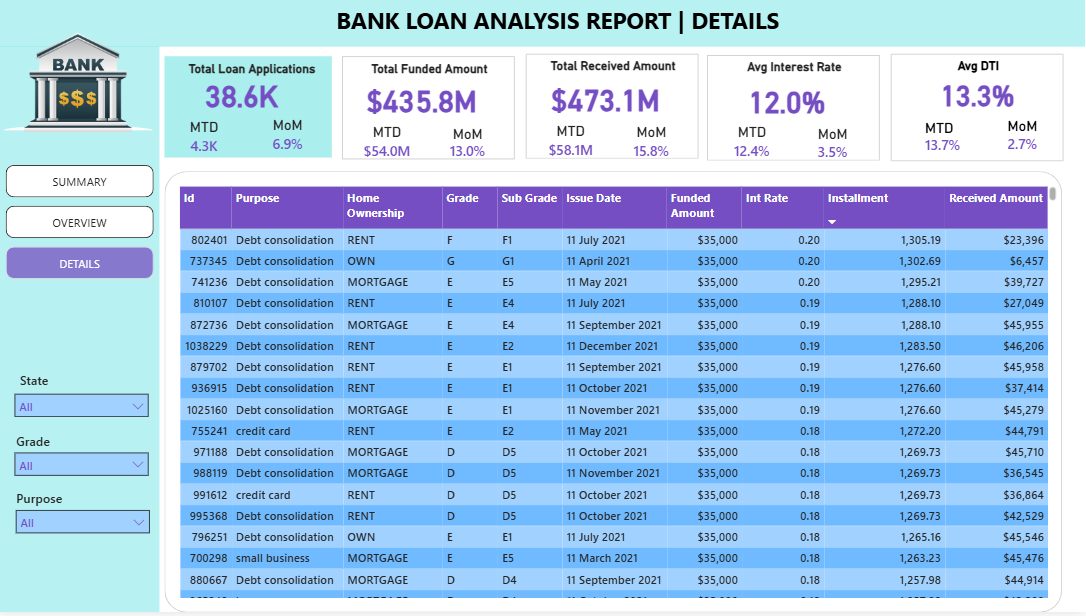

The dashboard page shown, as its layout file describes it:
{"tool":"powerbi","page":{"name":"DETAILS","canvas":[1280,720],"ordinal":2},"visuals":[{"type":"shape","box":[0,0,1280.3,54.9],"z":0},{"type":"shape","box":[622.7,63.2,203.2,123.5],"z":0,"group":"g3"},{"type":"shape","box":[1052.2,63.2,203.2,126.5],"z":0,"group":"g5"},{"type":"shape","box":[836,64.7,203.2,124.3],"z":0,"group":"g4"},{"type":"shape","box":[406.6,66.2,203.2,121.3],"z":0,"group":"g2"},{"type":"shape","box":[196.9,66.9,197.1,119.1],"z":0,"group":"g1"},{"type":"shape","box":[0,54.4,191.2,666.2],"z":1000},{"type":"card","fields":{"Values":["financial_loan.Total Loan Applications"]},"box":[216.2,87.2,143.4,48],"z":1000,"group":"g1"},{"type":"card","fields":{"Values":["financial_loan.Total Received Amount"]},"box":[640.6,89.2,149.5,52],"z":1000,"group":"g3"},{"type":"card","fields":{"Values":["financial_loan.Average Interest Rate"]},"box":[853.9,90.9,149.5,52.3],"z":1000,"group":"g4"},{"type":"card","fields":{"Values":["financial_loan.Total Funded Amount"]},"box":[424.5,91.7,149.5,51.1],"z":1000,"group":"g2"},{"type":"textbox","box":[393.9,0,587.7,63.8],"z":2000},{"type":"textbox","box":[617.6,63.2,214.7,52],"z":2000,"group":"g3"},{"type":"textbox","box":[1047.1,63.2,214.7,53.3],"z":2000,"group":"g5"},{"type":"textbox","box":[830.9,64.7,214.7,52.3],"z":2000,"group":"g4"},{"type":"textbox","box":[196.9,67.3,205.9,48.5],"z":2000,"group":"g1"},{"type":"group","id":"g1","title":"Group 1","box":[196.9,66.9,205.9,119.1],"z":3000},{"type":"card","title":"MTD","fields":{"Values":["financial_loan.MTD Loan Applications"]},"box":[215.1,140.2,57.6,44.4],"z":3000,"group":"g1"},{"type":"card","title":"MTD","fields":{"Values":["financial_loan.MTD Total Received Amount"]},"box":[633.8,144.1,82.2,45.5],"z":3000,"group":"g3"},{"type":"card","title":"MTD","fields":{"Values":["financial_loan.MTD Funded Amount"]},"box":[417.7,145.6,82.2,44.7],"z":3000,"group":"g2"},{"type":"card","title":"MTD","fields":{"Values":["financial_loan.MTD Avg Int Rate"]},"box":[847.1,146.1,82.2,45.8],"z":3000,"group":"g4"},{"type":"group","id":"g2","title":"Group 1","box":[401.5,66.2,214.7,127.9],"z":4000},{"type":"card","title":"MoM","fields":{"Values":["financial_loan.MoM Loan Application"]},"box":[313.2,137.8,57.6,44.4],"z":4000,"group":"g1"},{"type":"card","title":"MoM","fields":{"Values":["financial_loan.MoM Total Received Amount"]},"box":[739.3,145.4,60.1,48.1],"z":4000,"group":"g3"},{"type":"card","title":"MoM","fields":{"Values":["financial_loan.MoM Total Funded Amount"]},"box":[523.2,146.9,60.1,47.2],"z":4000,"group":"g2"},{"type":"card","title":"MoM","fields":{"Values":["financial_loan.MoM Avg Int Rate"]},"box":[952.6,147.4,60.1,48.4],"z":4000,"group":"g4"},{"type":"group","id":"g3","title":"Group 1","box":[617.6,63.2,214.7,130.9],"z":5000},{"type":"group","id":"g4","title":"Group 1","box":[830.9,64.7,214.7,130.9],"z":6000},{"type":"group","id":"g5","title":"Group 1","box":[1047.1,63.2,214.7,126.5],"z":7000},{"type":"textbox","box":[401.5,66.2,214.7,51.1],"z":7500,"group":"g2"},{"type":"textbox","box":[1104.3,88.3,112.9,56.4],"z":8000},{"type":"textbox","box":[1087.1,135,67.5,55.2],"z":9000},{"type":"textbox","box":[1184.1,133.7,67.5,55.2],"z":10000},{"type":"shape","box":[197.1,201.5,1055.9,519.1],"z":11000},{"type":"slicer","fields":{"Values":["financial_loan.address_state"]},"box":[10.8,452.7,178.4,51.4],"z":12000},{"type":"textbox","box":[22.1,432.4,69.1,36.8],"z":13000},{"type":"slicer","fields":{"Values":["financial_loan.grade"]},"box":[10.8,521.6,178.4,50],"z":14000},{"type":"textbox","box":[17.6,504.1,73,35.1],"z":15000},{"type":"slicer","fields":{"Values":["financial_loan.purpose"]},"box":[11,590.2,177.9,50.3],"z":16000},{"type":"textbox","box":[17.4,571,85.5,31.9],"z":17000},{"type":"tableEx","fields":{"Values":["financial_loan.id","financial_loan.purpose","financial_loan.home_ownership","financial_loan.grade","financial_loan.sub_grade","financial_loan.issue_date","financial_loan.Total Funded Amount","Sum(financial_loan.int_rate)","Sum(financial_loan.installment)","financial_loan.Total Received Amount"]},"box":[208.8,214.7,1042.6,494.1],"z":18000},{"type":"pageNavigator","box":[10.8,194.6,174.3,136.5],"z":19000},{"type":"image","box":[2.7,6.8,185.1,179.7],"z":20000}]}

Visuals, with their boxes in screenshot pixels (x1, y1, x2, y2), scaled from the page's 1280x720 canvas onto the 1086x616 screenshot:
shape: 0 0 1085 47
shape: 528 54 701 160
shape: 893 54 1065 162
shape: 709 55 882 162
shape: 345 57 517 160
shape: 167 57 334 159
shape: 0 47 162 615
card - financial_loan.Total Loan Applications: 183 75 305 116
card - financial_loan.Total Received Amount: 544 76 670 121
card - financial_loan.Average Interest Rate: 724 78 851 123
card - financial_loan.Total Funded Amount: 360 78 487 122
textbox: 334 0 833 55
textbox: 524 54 706 99
textbox: 888 54 1071 100
textbox: 705 55 887 100
textbox: 167 58 342 99
"Group 1" group: 167 57 342 159
"MTD" card: 182 120 231 158
"MTD" card: 538 123 607 162
"MTD" card: 354 125 424 163
"MTD" card: 719 125 788 164
"Group 1" group: 341 57 523 166
"MoM" card: 266 118 315 156
"MoM" card: 627 124 678 166
"MoM" card: 444 126 495 166
"MoM" card: 808 126 859 168
"Group 1" group: 524 54 706 166
"Group 1" group: 705 55 887 167
"Group 1" group: 888 54 1071 162
textbox: 341 57 523 100
textbox: 937 76 1033 124
textbox: 922 116 980 163
textbox: 1005 114 1062 162
shape: 167 172 1063 615
slicer - financial_loan.address_state: 9 387 161 431
textbox: 19 370 77 401
slicer - financial_loan.grade: 9 446 161 489
textbox: 15 431 77 461
slicer - financial_loan.purpose: 9 505 160 548
textbox: 15 489 87 516
tableEx - financial_loan.id x financial_loan.purpose: 177 184 1062 606
pageNavigator: 9 166 157 283
image: 2 6 159 160
